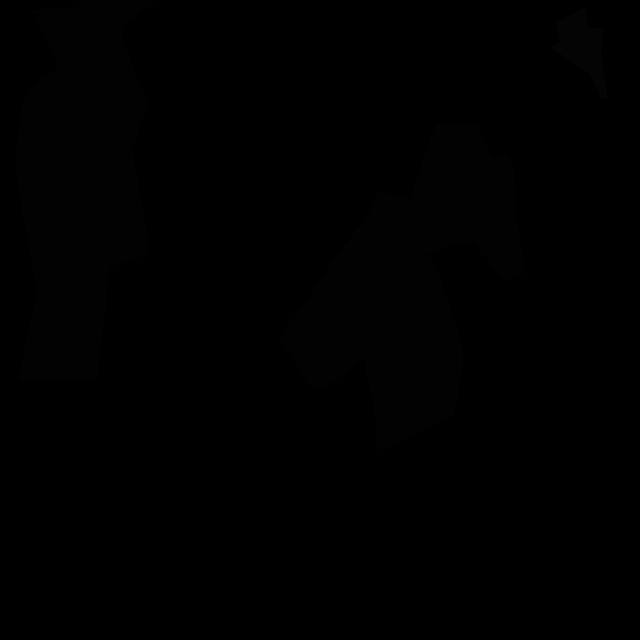cardboard: (15, 0, 158, 381), (279, 227, 464, 450), (359, 124, 526, 282)
soft_plastic: (550, 6, 607, 98)
